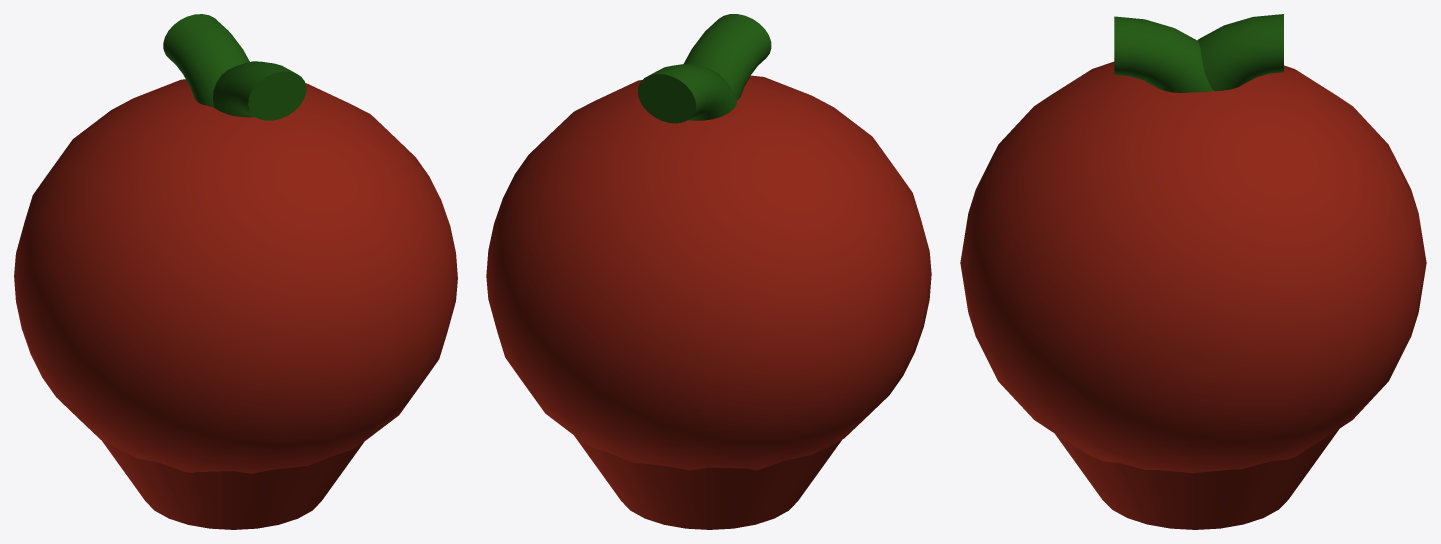
Rendered from apple.fbx.
The picture shows the model from 3 angles, left to right: view 1: azimuth 30°, elevation 25°; view 2: azimuth 150°, elevation 25°; view 3: azimuth 270°, elevation 25°; orthographic projection. The views are drawn at different scales.
Visible parts, largest first — view 1: sphere, cylinder_taper%, torus_quarter% (×2); view 2: sphere, cylinder_taper%, torus_quarter% (×2); view 3: sphere, cylinder_taper%, torus_quarter% (×2).
Boxes of the visible parts, box(x1,y1,x2,y2) form: sphere: box(14, 79, 457, 473); cylinder_taper%: box(102, 441, 363, 529); torus_quarter% (×2): box(163, 14, 306, 120); sphere: box(486, 75, 931, 470); cylinder_taper%: box(574, 435, 841, 529); torus_quarter% (×2): box(638, 14, 771, 123); sphere: box(960, 61, 1426, 473); cylinder_taper%: box(1055, 429, 1338, 529); torus_quarter% (×2): box(1114, 14, 1283, 92).
Bounding box in the file's own units: 12.1 × 13.5 × 12.1.
